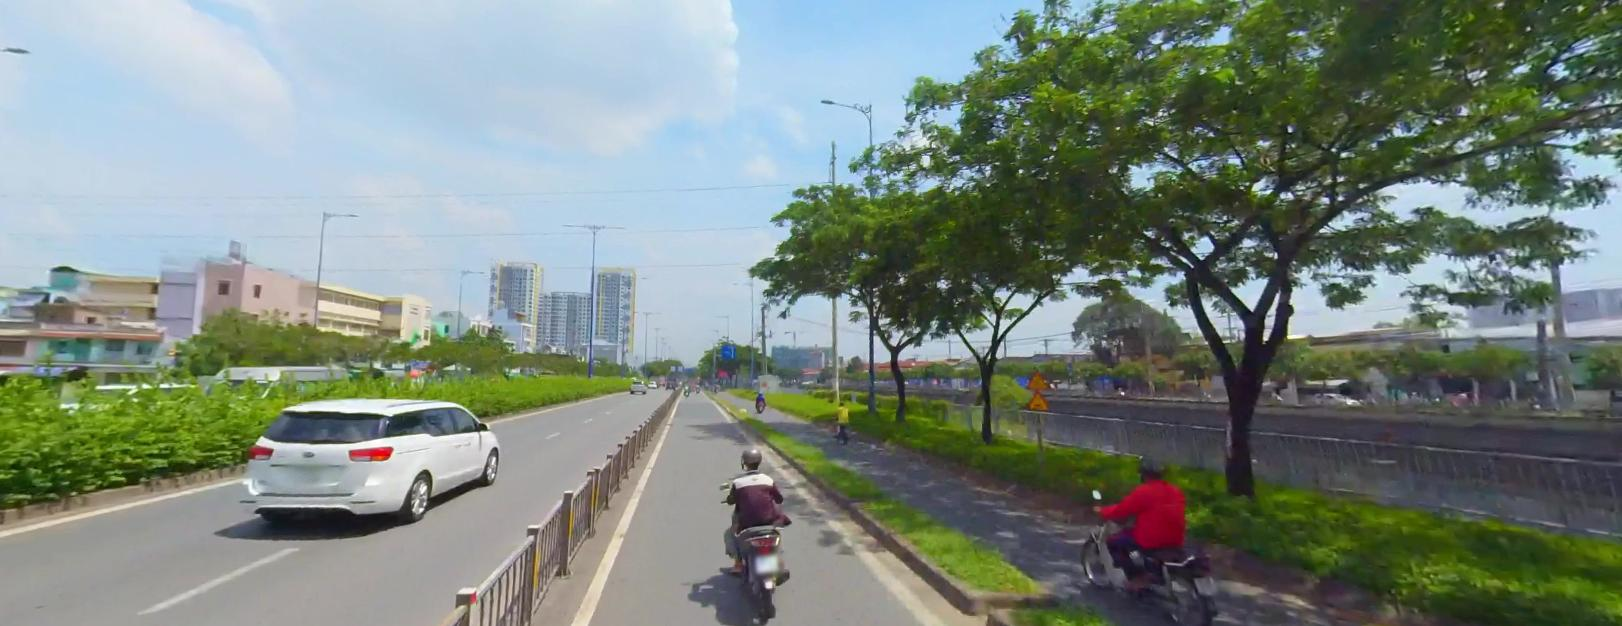Nguy hiem: (1026, 389, 1050, 409), (1026, 368, 1049, 388)
